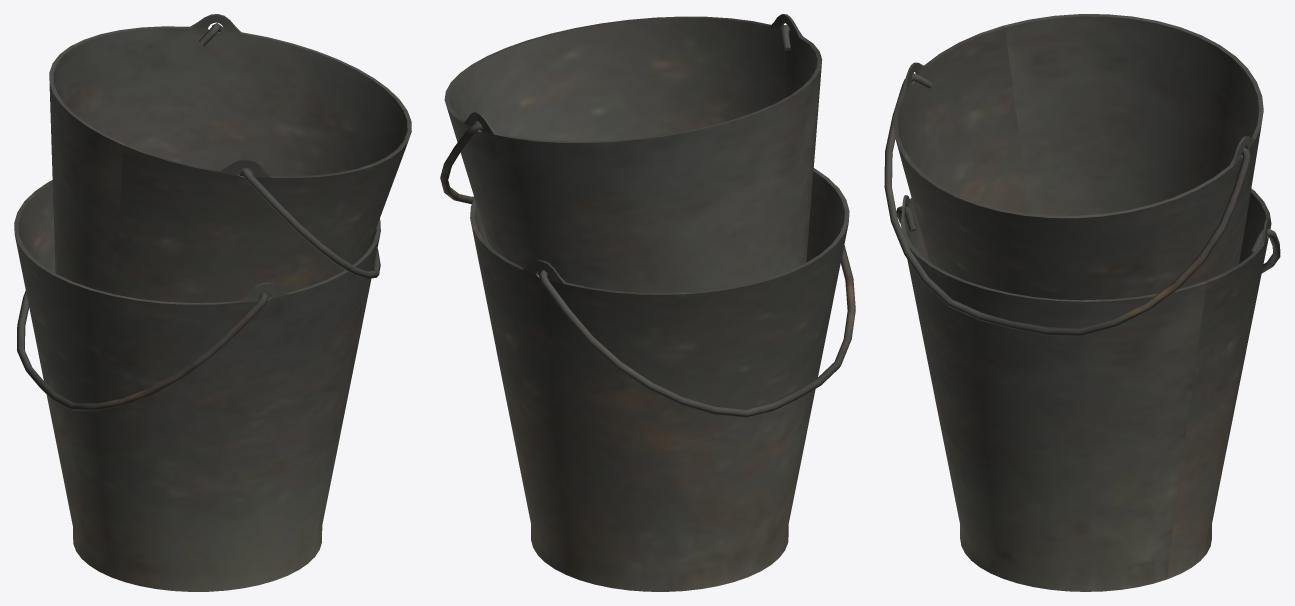
The model's file is prop_small_003.glb.
3 renders of one model, left to right at view 1: azimuth 30°, elevation 25°; view 2: azimuth 150°, elevation 25°; view 3: azimuth 270°, elevation 25°, orthographic. The views are drawn at different scales.
Visible parts, largest first — view 1: Building_12_007; view 2: Building_12_007; view 3: Building_12_007.
Boxes of the visible parts, x1,y1,x2,y2 form: Building_12_007: (14, 14, 411, 591); Building_12_007: (440, 14, 855, 591); Building_12_007: (884, 14, 1280, 591).
Bounding box in the file's own units: 0.6317 × 0.8 × 0.6206.
Materials: 1 (1 with a texture image).
